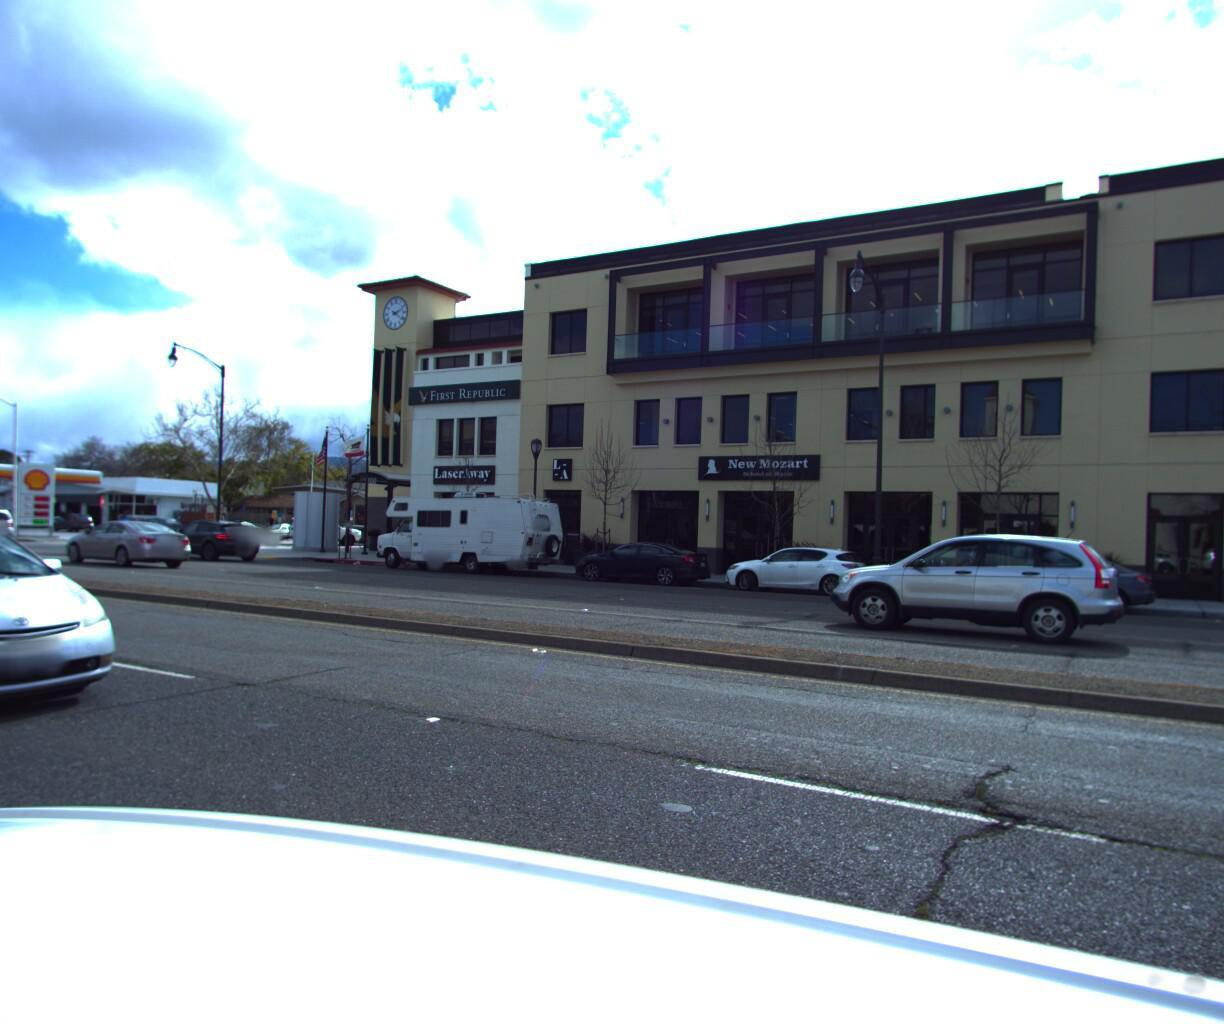car: (820, 521, 1120, 661), (0, 497, 163, 752), (952, 556, 1154, 624), (715, 546, 874, 606), (565, 542, 717, 595), (55, 520, 196, 574), (159, 524, 273, 568), (285, 521, 363, 553), (204, 526, 267, 547), (134, 522, 192, 543), (50, 516, 99, 538), (251, 529, 305, 547), (0, 511, 20, 552)
other_vehicle: (366, 492, 575, 586)
